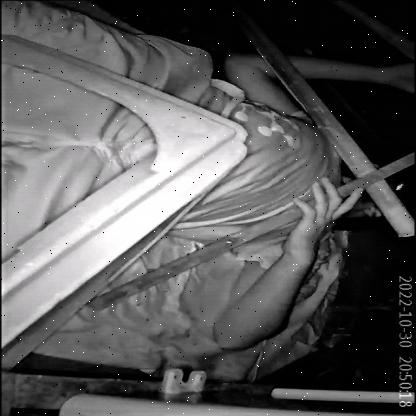hand: (206, 174, 367, 358), (210, 39, 416, 121)
